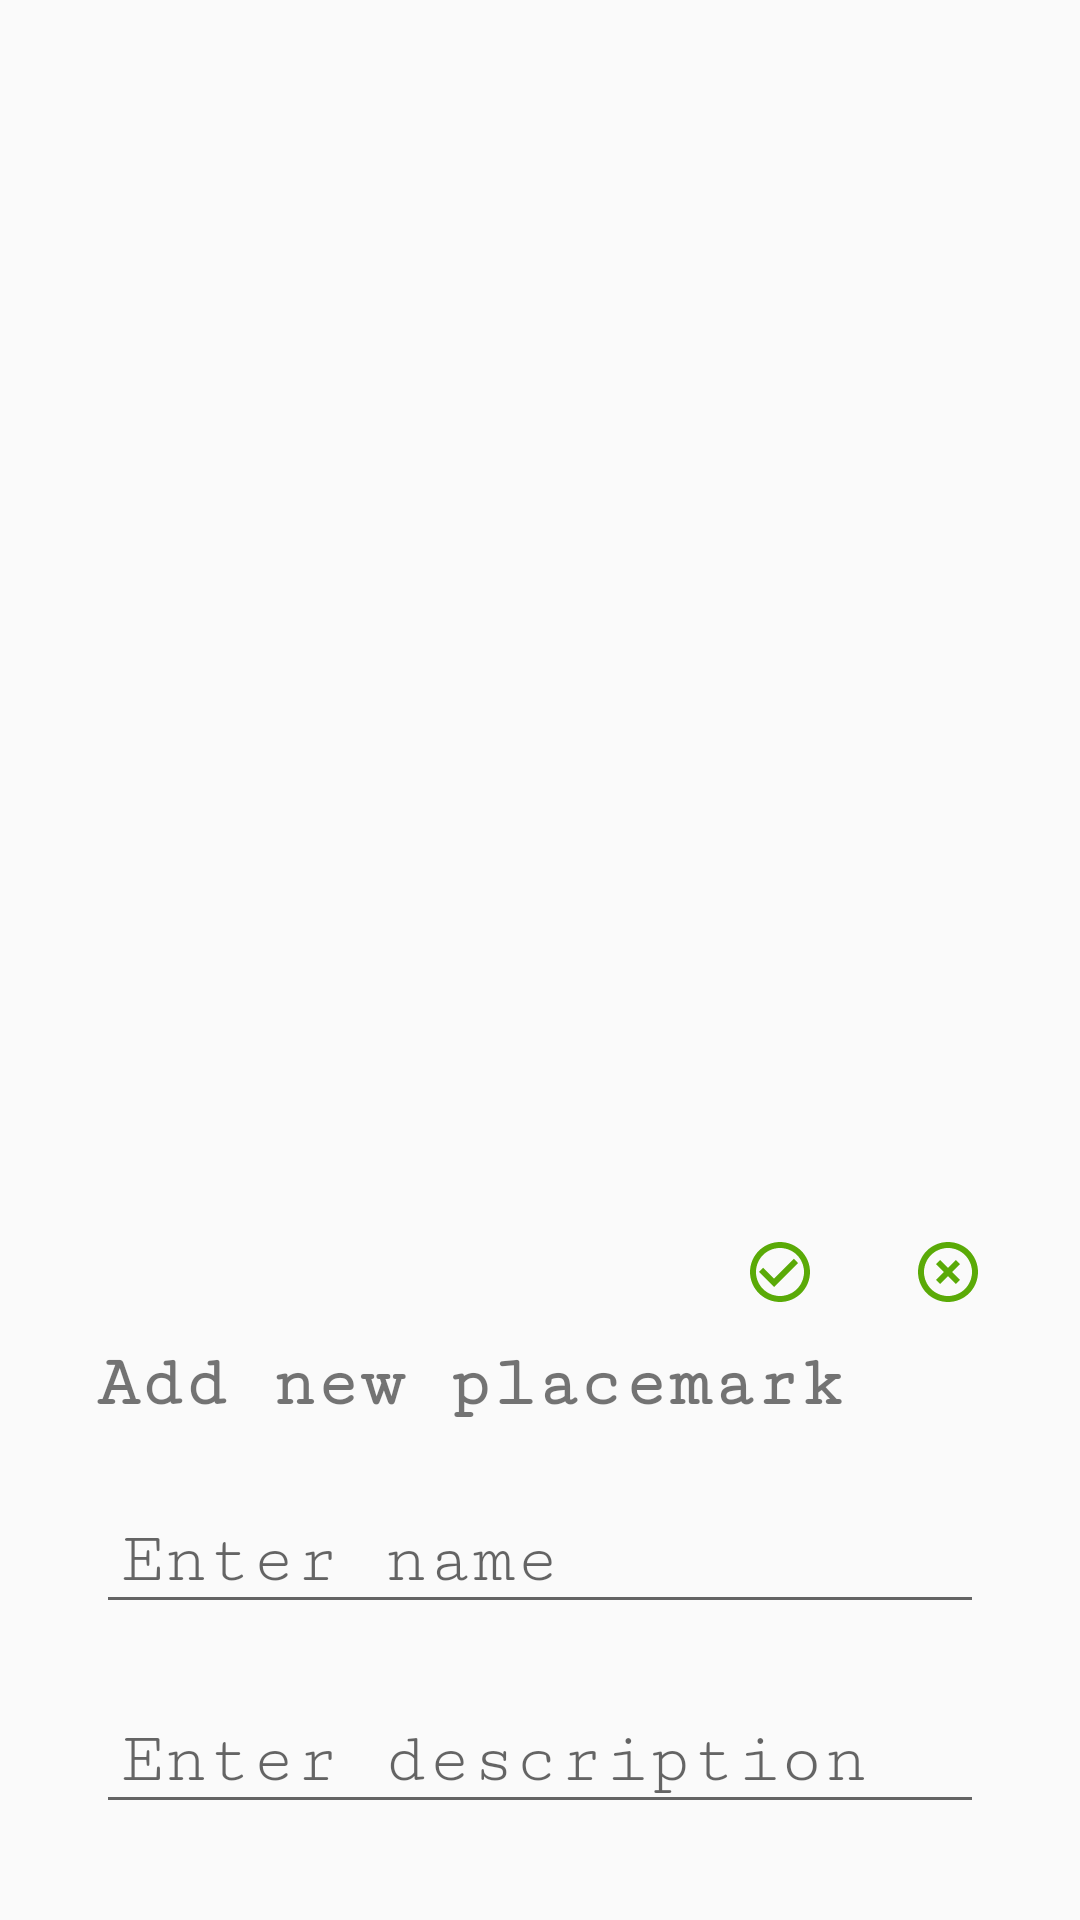

Icons on this 1080×1920 Android screen, each with the point to tap as point (x, y):
Cancel button: point (948, 1272)
Save button: point (780, 1272)
